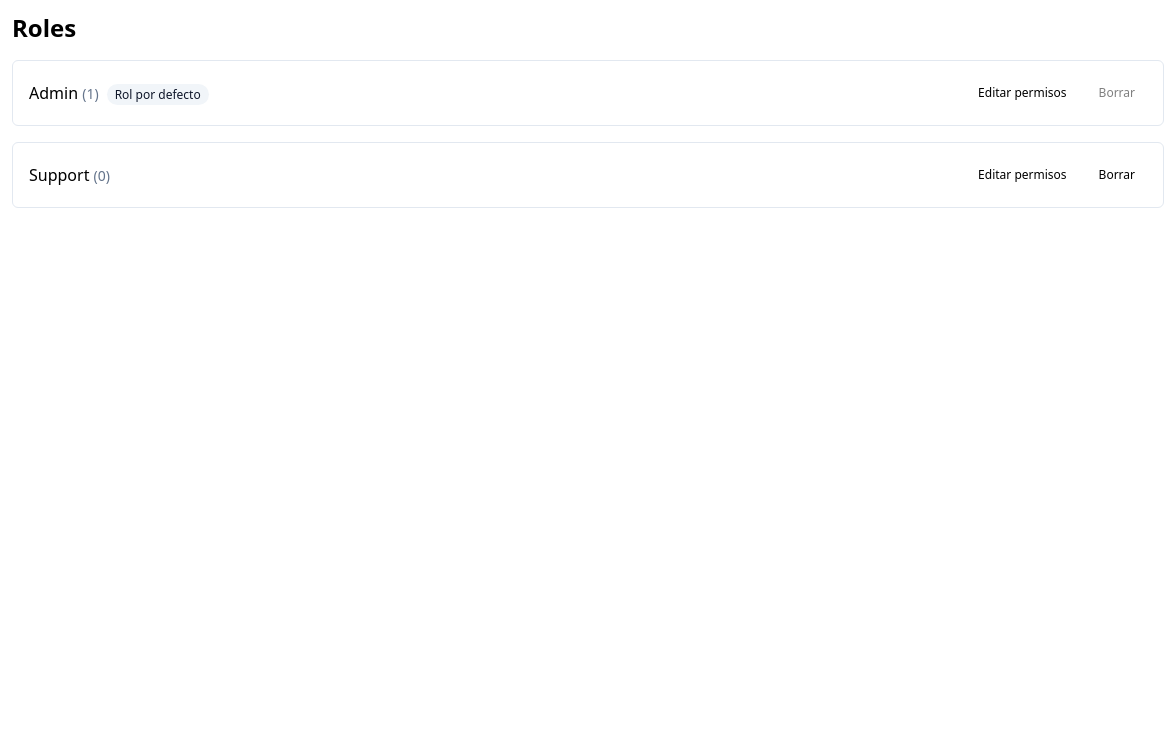
RolesScreen › has no accessibility violations with the matrix open
Expected: the text "Support" is shown, [29,164,89,186]
Click the button "Editar permisos" in the row of "Support".
click(1022, 175)  # box [966,159,1079,191]
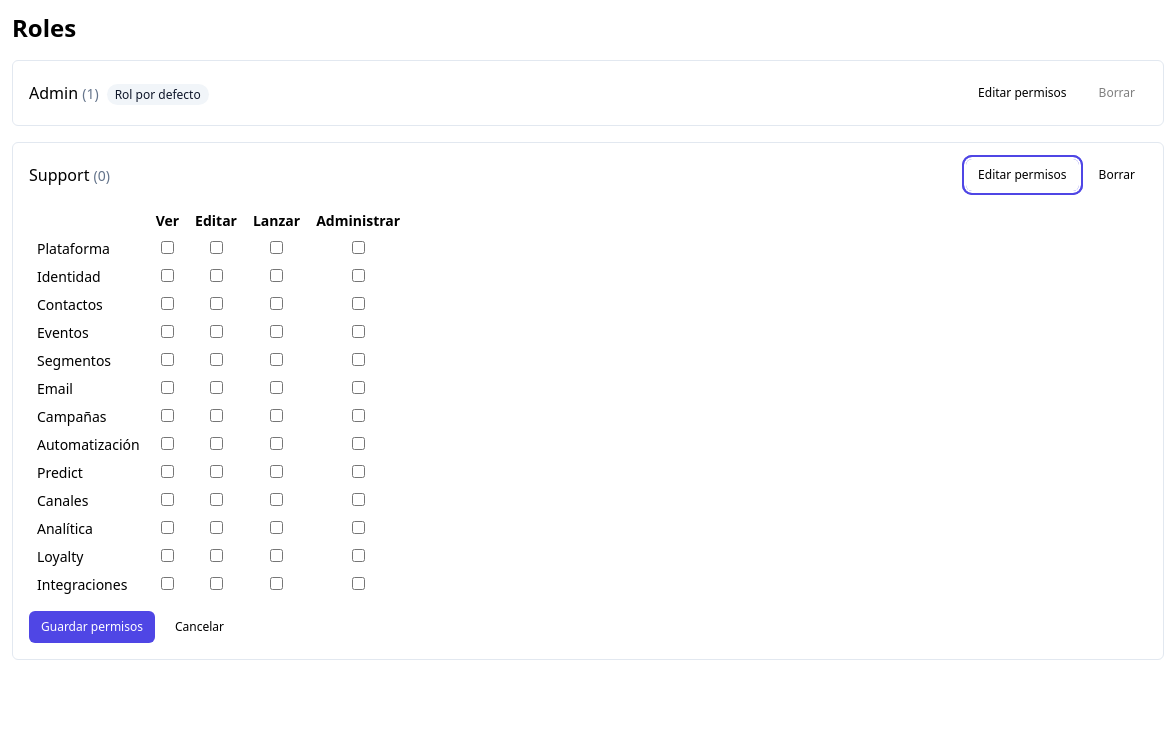
Now the checkbox named "Contactos · Ver" is shown, box [161,297,174,310]
